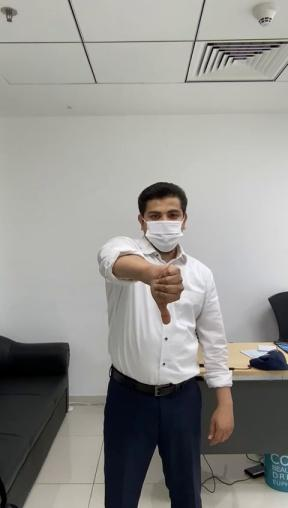thumbs-down: (147, 262, 186, 325)
